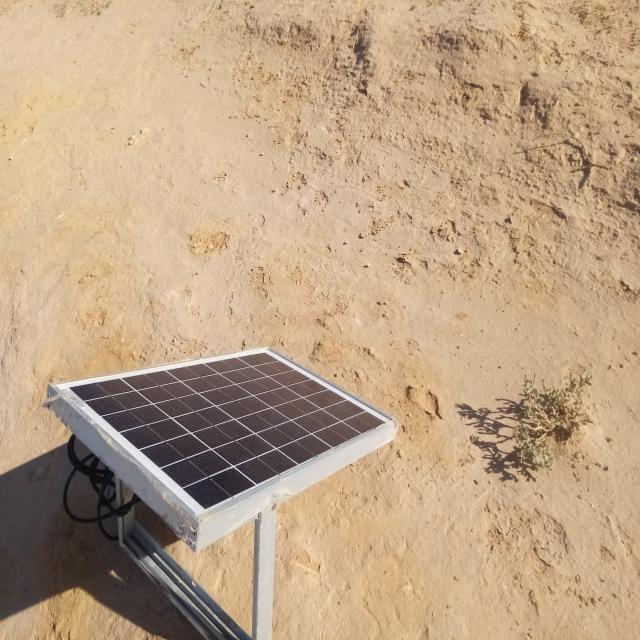no faulty: (56, 349, 394, 520)
